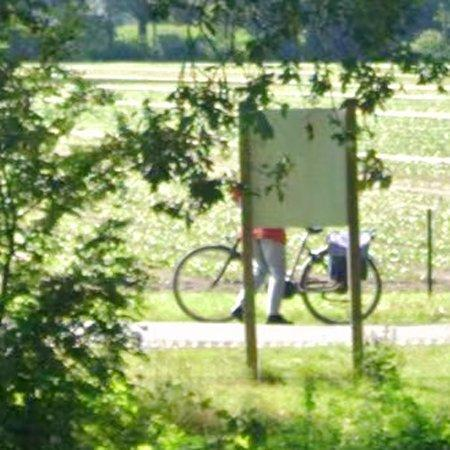bicycles: (286, 229, 351, 325), (173, 239, 242, 323), (363, 233, 383, 319)
